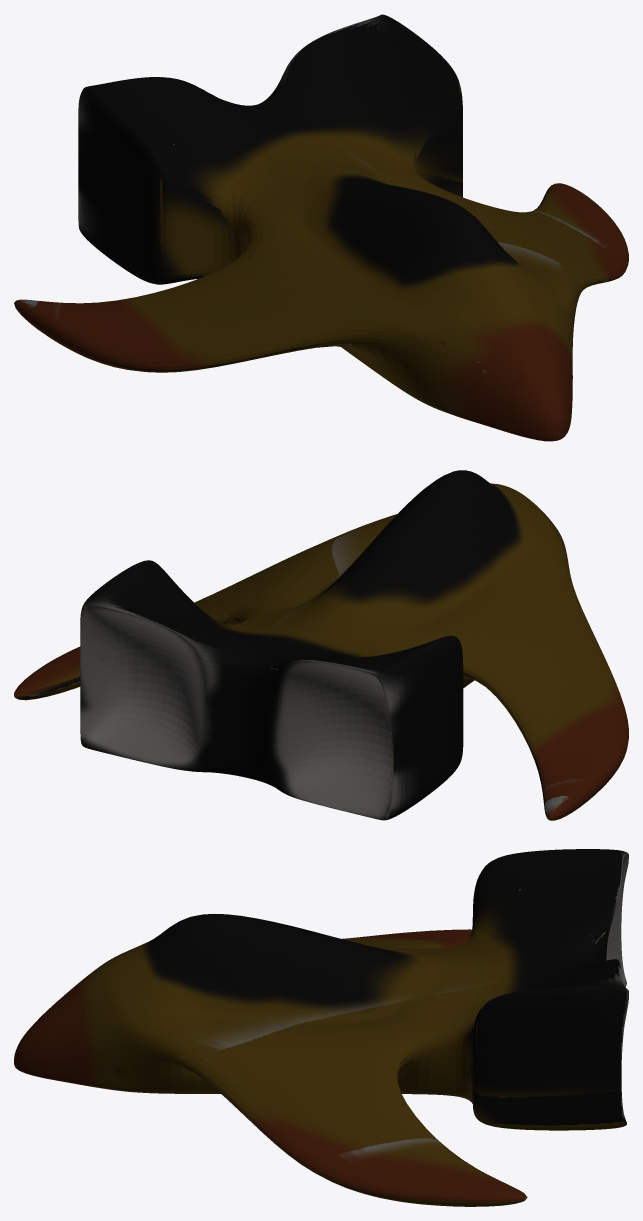
The model's file is bomber.glb.
3 renders of one model, top to bottom at view 1: azimuth 30°, elevation 25°; view 2: azimuth 150°, elevation 25°; view 3: azimuth 270°, elevation 25°, orthographic. The views are drawn at different scales.
Visible parts, largest first — view 1: Cube; view 2: Cube; view 3: Cube.
Boxes of the visible parts, x1,y1,x2,y2 form: Cube: (14,14,628,441); Cube: (14,470,628,820); Cube: (14,849,628,1206).
Bounding box in the file's own units: 7.45 × 2.26 × 7.57.
1 material, 1 textured.
